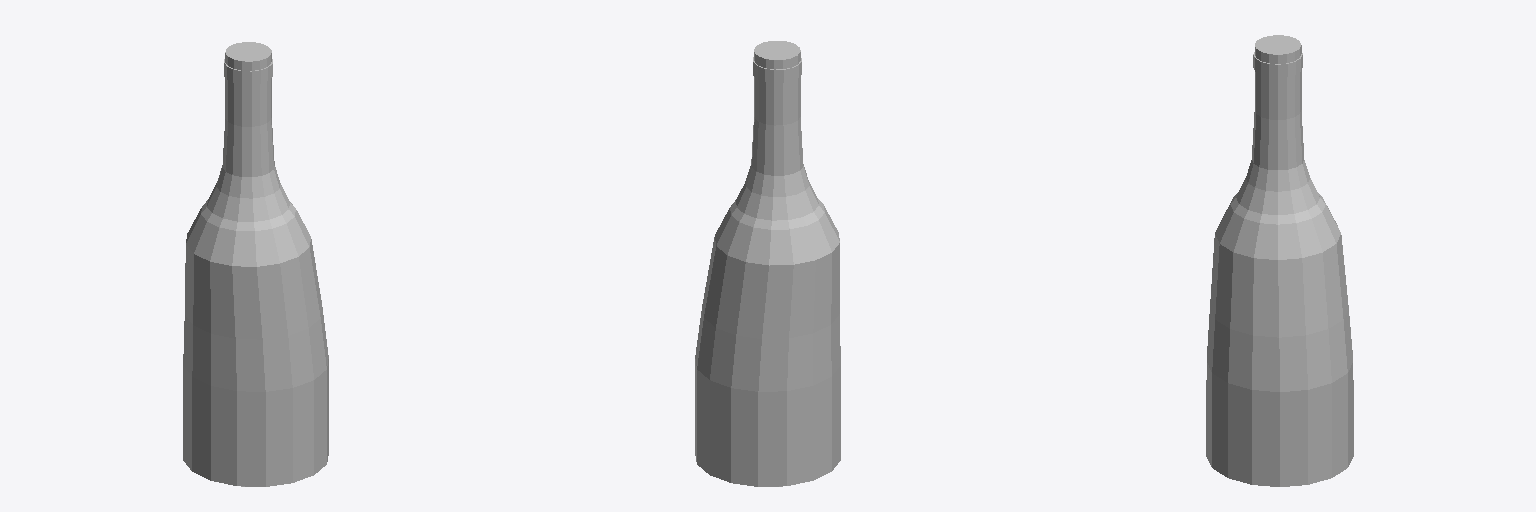
The model's file is Bottle_1_Cylinder.008.obj.
3 views of the same model, side by side, from view 1: azimuth 30°, elevation 25°; view 2: azimuth 150°, elevation 25°; view 3: azimuth 270°, elevation 25° (orthographic).
Visible parts, largest first — view 1: Bottle_1_Cylinder.008; view 2: Bottle_1_Cylinder.008; view 3: Bottle_1_Cylinder.008.
Part boxes in pixels (left/top/right/bottom): Bottle_1_Cylinder.008: left=183, top=42, right=328, bottom=486; Bottle_1_Cylinder.008: left=695, top=41, right=840, bottom=486; Bottle_1_Cylinder.008: left=1206, top=35, right=1353, bottom=486.
Bounding box in the file's own units: 0.1991 × 0.6171 × 0.1991.